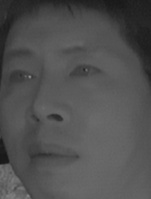eye: (67, 62, 103, 82), (6, 66, 37, 88)
mouth: (25, 135, 80, 174)
